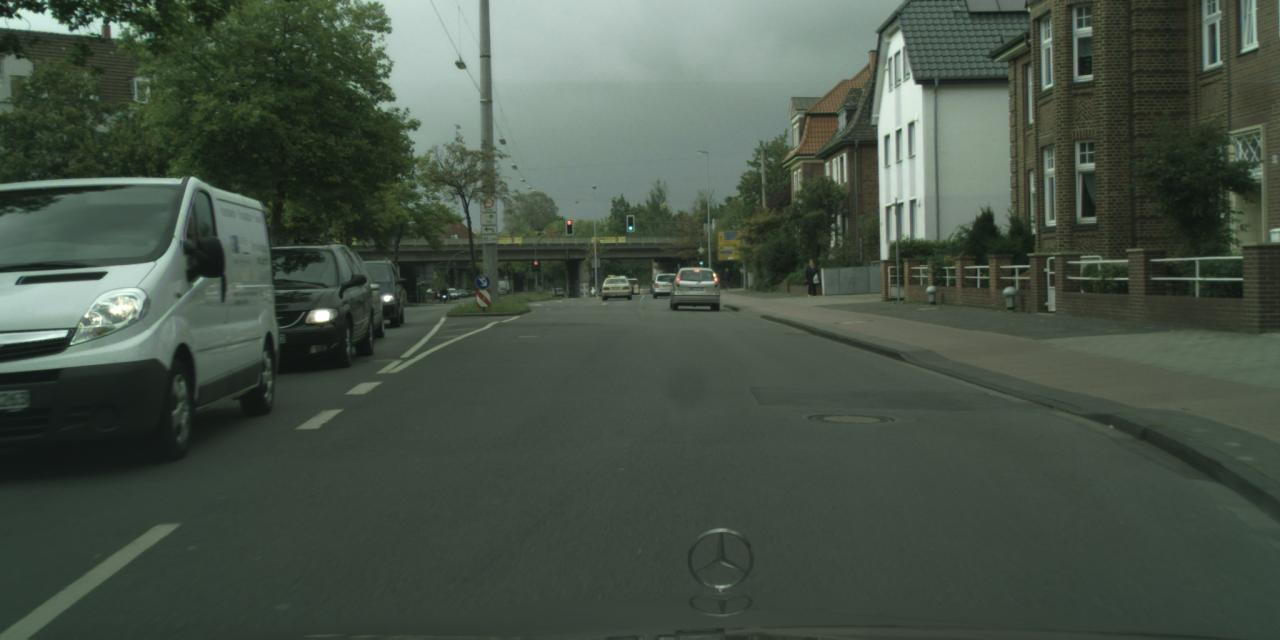ped: (803, 258, 818, 296), (722, 268, 729, 286), (442, 288, 446, 298)
